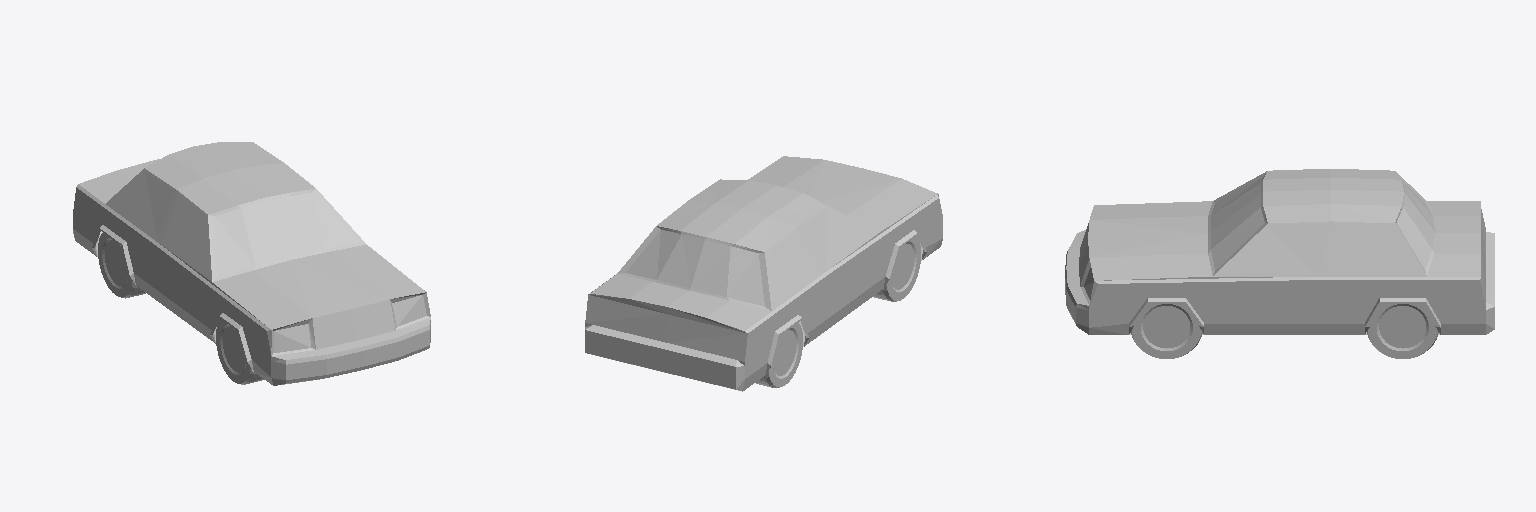
The model's file is car.obj.
The picture shows the model from 3 angles: view 1: azimuth 30°, elevation 25°; view 2: azimuth 150°, elevation 25°; view 3: azimuth 270°, elevation 25°; orthographic projection.
Visible parts, largest first — view 1: Car_Cube; view 2: Car_Cube; view 3: Car_Cube.
Part boxes in pixels (x1,y1,x2,y2): Car_Cube: (73,142,430,385); Car_Cube: (585,156,942,391); Car_Cube: (1065,169,1494,358).
Size of the model in its own units: 2.1 by 1.59 by 4.67.